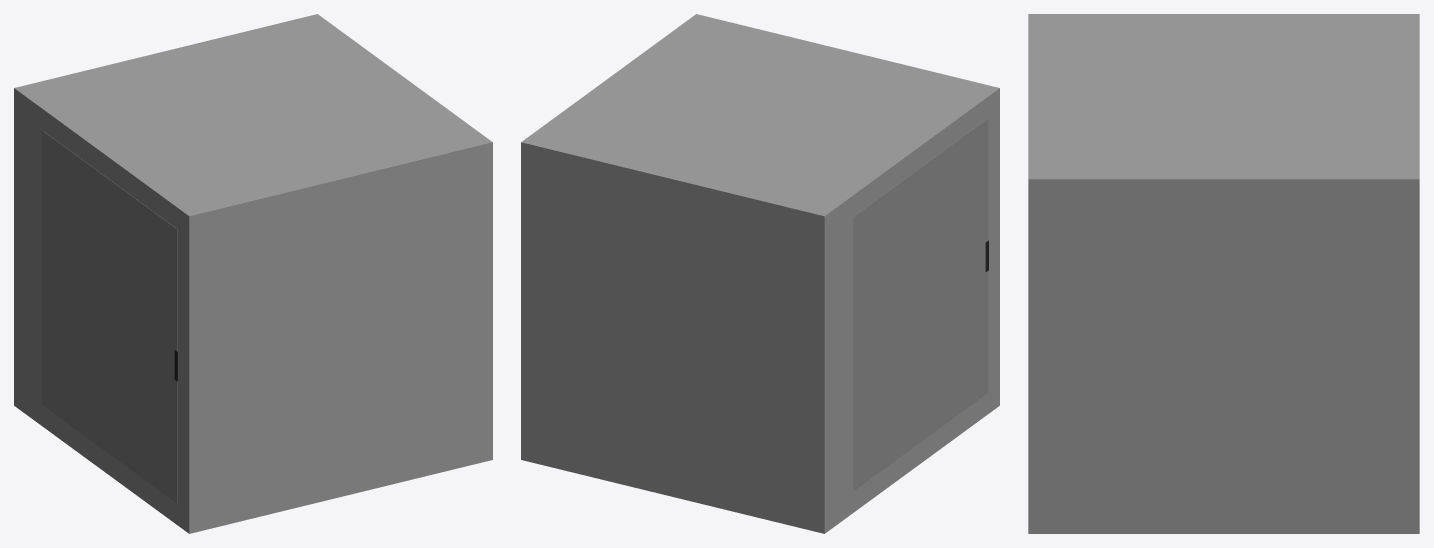
The model's file is scanner.obj.
3 renders of one model, left to right at view 1: azimuth 30°, elevation 25°; view 2: azimuth 150°, elevation 25°; view 3: azimuth 270°, elevation 25°, orthographic. The views are drawn at different scales.
Parts seen in each view (by area): view 1: Minecraft_Block_Cube, Base_Cube.003, Minecraft_2_Edge_Connectivity_Cube.002; view 2: Minecraft_Block_Cube, Base_Cube.003, Minecraft_2_Edge_Connectivity_Cube.002; view 3: Minecraft_Block_Cube, Minecraft_2_Edge_Connectivity_Cube.002.
Part boxes in pixels (x1,y1,x2,y2): Minecraft_Block_Cube: (15, 14, 492, 533); Base_Cube.003: (42, 130, 177, 503); Minecraft_2_Edge_Connectivity_Cube.002: (14, 88, 252, 533); Minecraft_Block_Cube: (521, 14, 998, 533); Base_Cube.003: (853, 118, 988, 491); Minecraft_2_Edge_Connectivity_Cube.002: (760, 88, 999, 533); Minecraft_Block_Cube: (1028, 14, 1419, 533); Minecraft_2_Edge_Connectivity_Cube.002: (1029, 14, 1418, 96).
Bounding box in the file's own units: 1 × 1 × 1.
4 materials, 3 textured.
